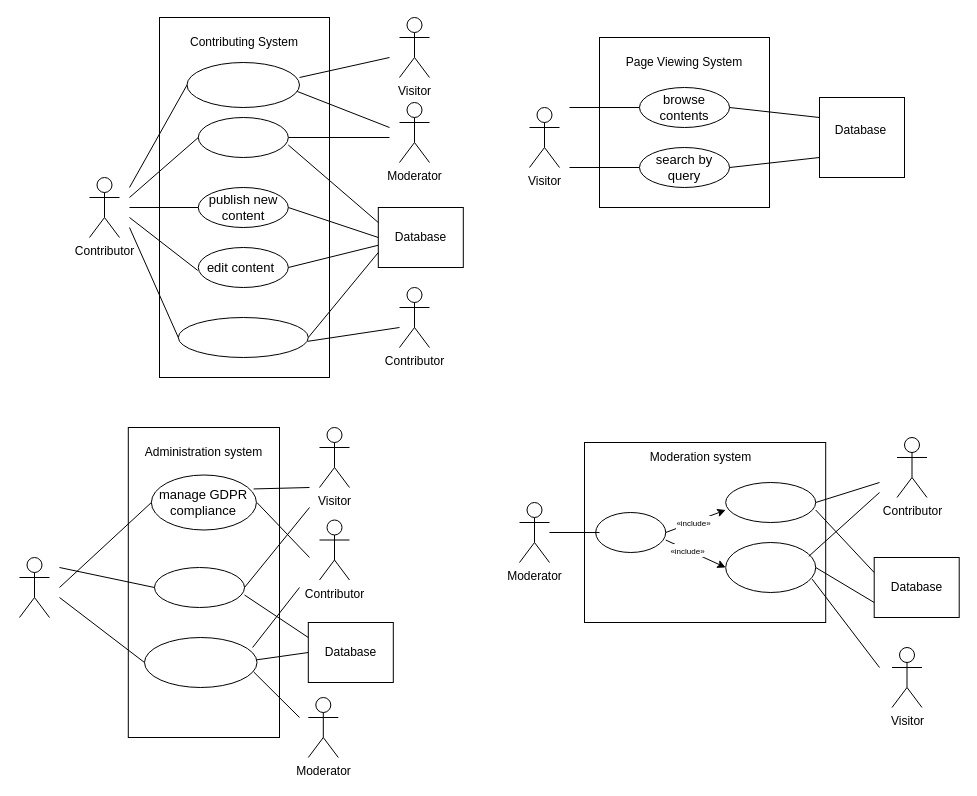
Some shapes in this 977 by 796 pixel diagram are drawn without their labels. The centre of each missing label's shape, as x and y in pixels:
"access audit logs" belongs at point 770,502.
"Admin" belongs at point 34,587.
"block IPs" belongs at point 199,587.
"discuss with other contributors" belongs at point 242,337.
"i nitiate dispute" belongs at point 242,137.
"manage account access" belongs at point 200,662.
"moderate content" belongs at point 630,532.
"remove inappropriate content" belongs at point 770,567.
"view moderation rules" belongs at point 243,85.
